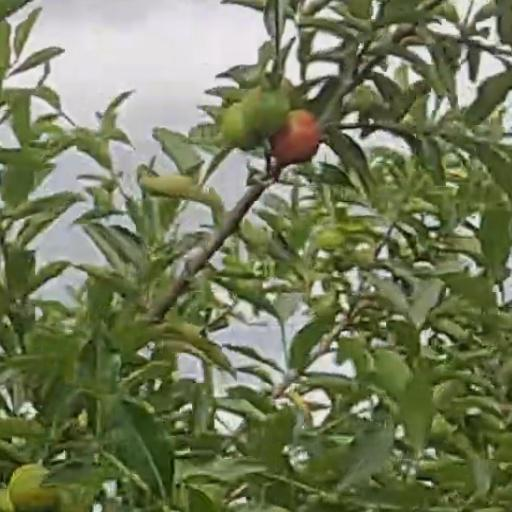acerola_verde: (8, 465, 54, 509), (250, 89, 287, 133), (222, 104, 250, 146)
acerola_vermelha: (276, 112, 315, 161)
